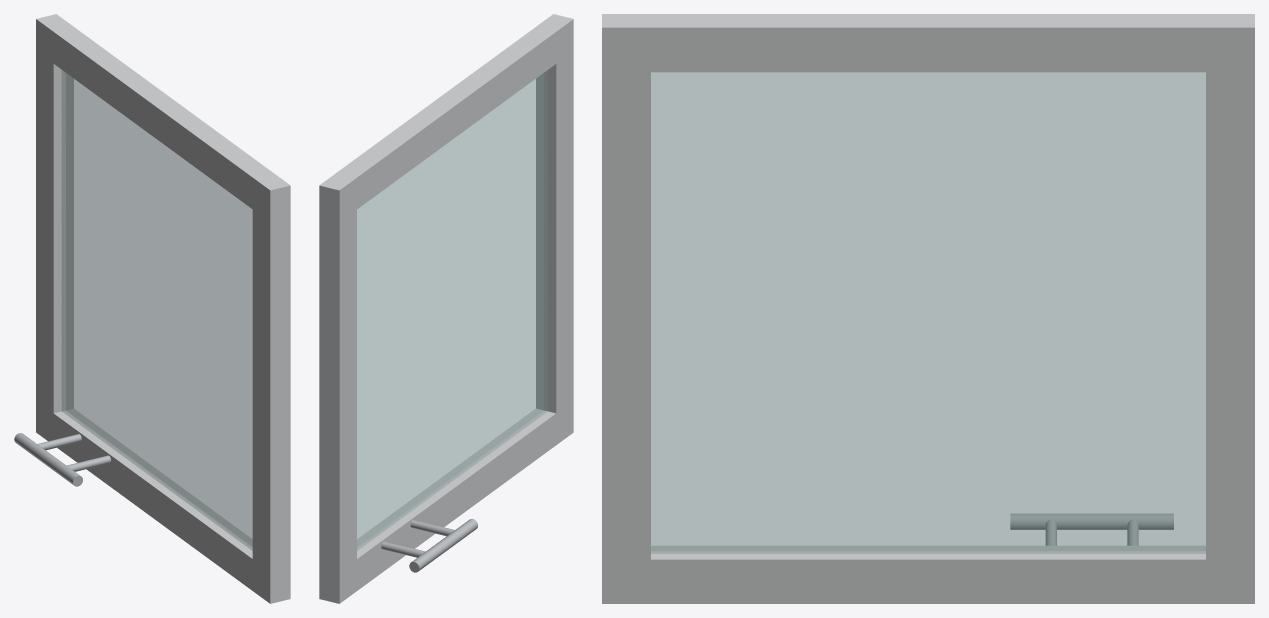
The model's file is side_door_left.obj.
The picture shows the model from 3 angles, left to right: view 1: azimuth 30°, elevation 25°; view 2: azimuth 150°, elevation 25°; view 3: azimuth 270°, elevation 25°; orthographic projection. The views are drawn at different scales.
Visible parts, largest first — view 1: pane, upper_rail, lower_rail, rear_stile, front_stile, handle; view 2: pane, lower_rail, upper_rail, rear_stile, front_stile, handle, handle_stub_1, handle_stub_0; view 3: pane, front_stile, rear_stile, lower_rail, upper_rail, handle.
Boxes of the visible parts, <box> form: pane: <box>61,70,252,550</box>; upper_rail: <box>252,172,290,603</box>; lower_rail: <box>36,14,73,441</box>; rear_stile: <box>53,27,272,208</box>; front_stile: <box>53,408,252,590</box>; handle: <box>14,433,82,486</box>; pane: <box>357,70,547,550</box>; lower_rail: <box>319,172,356,603</box>; upper_rail: <box>536,14,573,444</box>; rear_stile: <box>337,27,556,209</box>; front_stile: <box>357,408,556,590</box>; handle: <box>409,519,477,572</box>; handle_stub_1: <box>410,520,454,536</box>; handle_stub_0: <box>381,541,425,557</box>; pane: <box>651,72,1205,553</box>; front_stile: <box>651,545,1205,603</box>; rear_stile: <box>651,14,1205,72</box>; lower_rail: <box>1206,14,1254,603</box>; upper_rail: <box>602,14,650,603</box>; handle: <box>1010,513,1173,529</box>.
Bounding box in the file's own units: 0.14 × 0.777 × 0.798.
